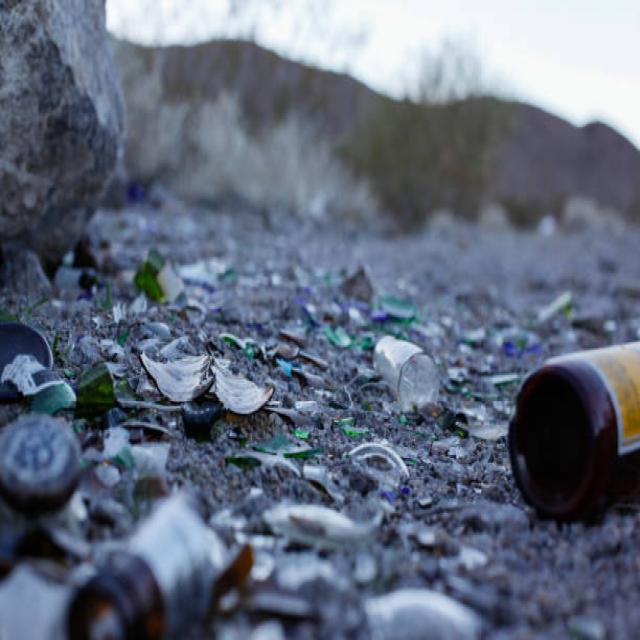electronic: (125, 325, 459, 453)
